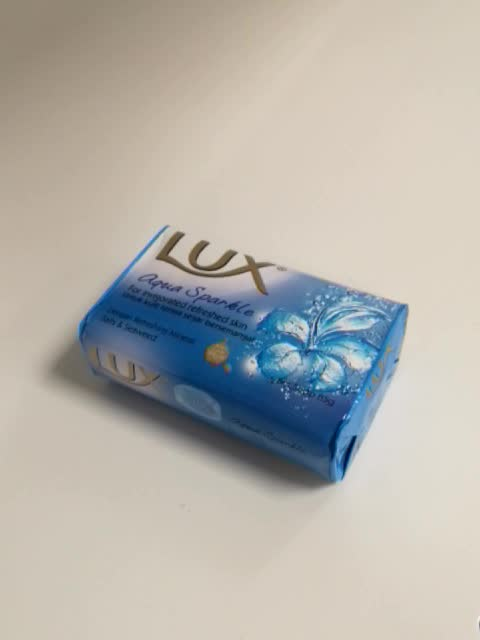soap: (76, 221, 409, 487)
